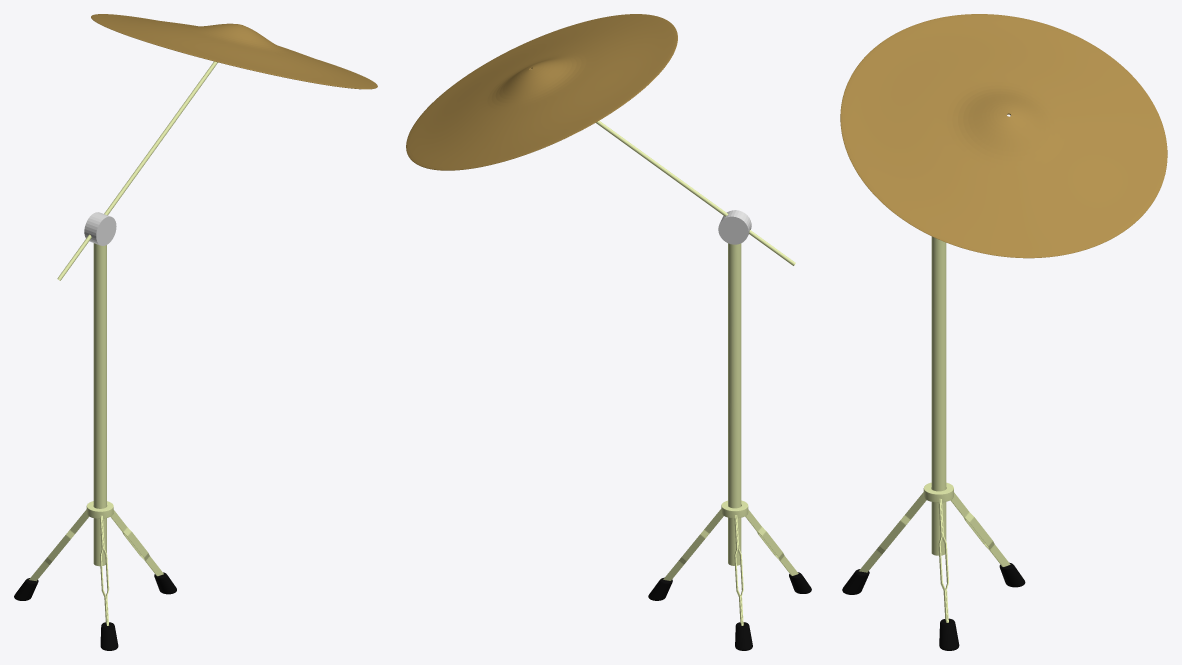
File: Ride_Cymbal.fbx
3 renders of one model, left to right at view 1: azimuth 30°, elevation 25°; view 2: azimuth 150°, elevation 25°; view 3: azimuth 270°, elevation 25°, orthographic. The views are drawn at different scales.
Visible parts, largest first — view 1: Ride_Cymbal, Snare_stand.004, Cylinder.017, Cylinder.018; view 2: Ride_Cymbal, Snare_stand.004, Cylinder.017, Cylinder.018; view 3: Ride_Cymbal, Snare_stand.004.
Boxes of the visible parts, x1,y1,x2,y2 form: Ride_Cymbal: (91, 14, 377, 89); Snare_stand.004: (14, 243, 176, 650); Cylinder.017: (57, 61, 217, 280); Cylinder.018: (84, 212, 116, 245); Ride_Cymbal: (406, 14, 677, 170); Snare_stand.004: (648, 243, 811, 650); Cylinder.017: (596, 120, 795, 265); Cylinder.018: (718, 210, 751, 244); Ride_Cymbal: (840, 14, 1167, 258); Snare_stand.004: (842, 236, 1025, 650).
Size of the model in its own units: 57.02 by 90.31 by 43.13.
